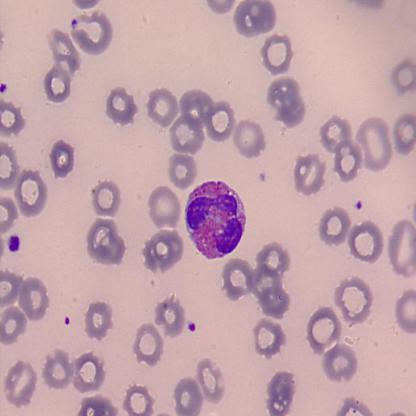Eosinophil: (184, 179, 247, 260)
